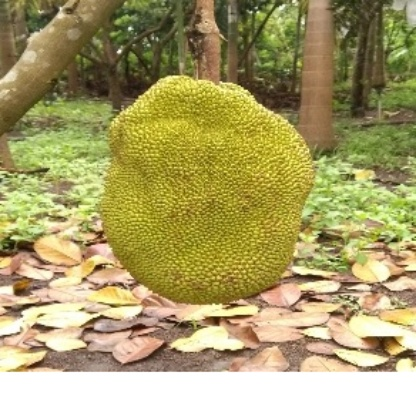mit: (90, 64, 315, 307)
